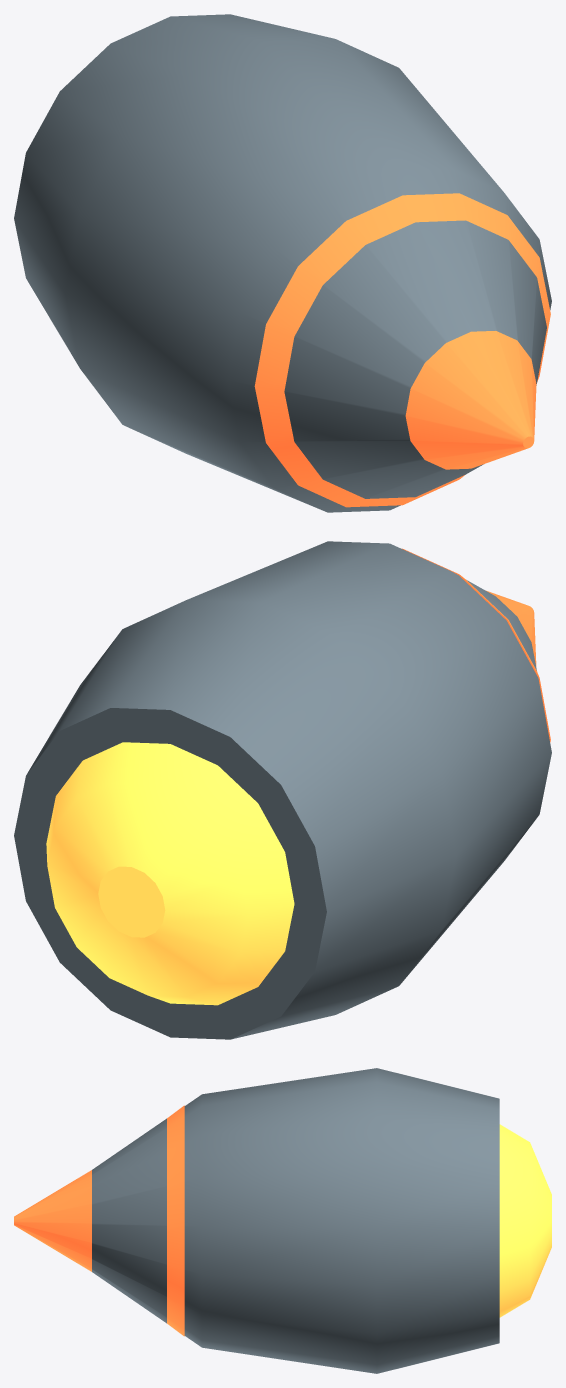
Rendered from hostile.glb.
3 renders of one model, top to bottom at view 1: azimuth 30°, elevation 25°; view 2: azimuth 150°, elevation 25°; view 3: azimuth 270°, elevation 25°, orthographic. The views are drawn at different scales.
Visible parts, largest first — view 1: hostile / Machined titanium, hostile / Hostile ember; view 2: hostile / Machined titanium, hostile / Tracer ember, hostile / Hostile ember; view 3: hostile / Machined titanium, hostile / Hostile ember, hostile / Tracer ember.
Boxes of the visible parts, left/top/right/bottom form: hostile / Machined titanium: left=14, top=14, right=551, bottom=512; hostile / Hostile ember: left=254, top=193, right=550, bottom=507; hostile / Machined titanium: left=14, top=541, right=551, bottom=1039; hostile / Tracer ember: left=46, top=742, right=294, bottom=1005; hostile / Hostile ember: left=402, top=548, right=550, bottom=742; hostile / Machined titanium: left=92, top=1068, right=499, bottom=1373; hostile / Hostile ember: left=14, top=1105, right=184, bottom=1336; hostile / Tracer ember: left=499, top=1124, right=551, bottom=1317.
Bounding box in the file's own units: 7 × 7 × 12.3.
